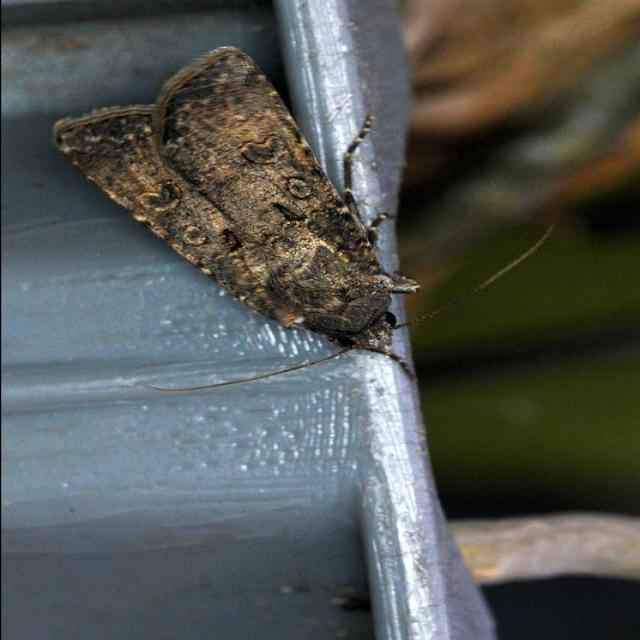black cutworm: (55, 47, 424, 374)
